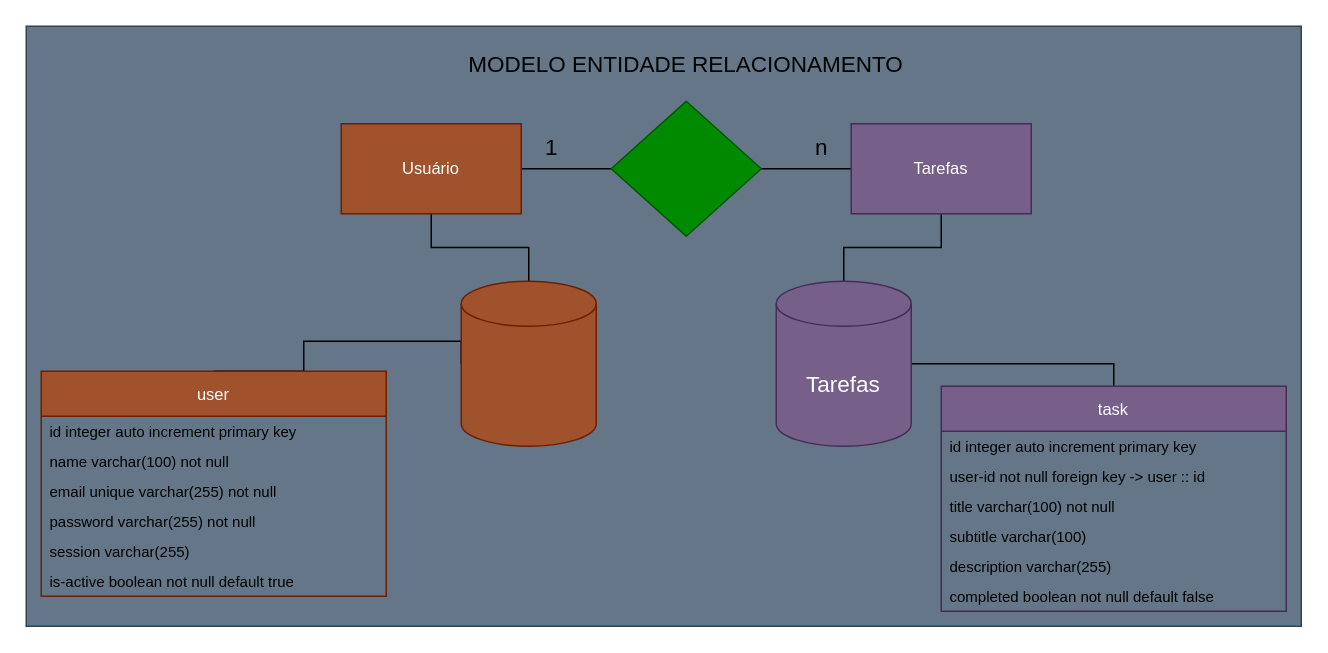
Image size: 1328x653. Some labels were removed from this diagram. The centre of each missing label's shape, as x and y in pixels:
"Possuí" belongs at (x=685, y=168).
"Usuários" belongs at (x=528, y=363).
